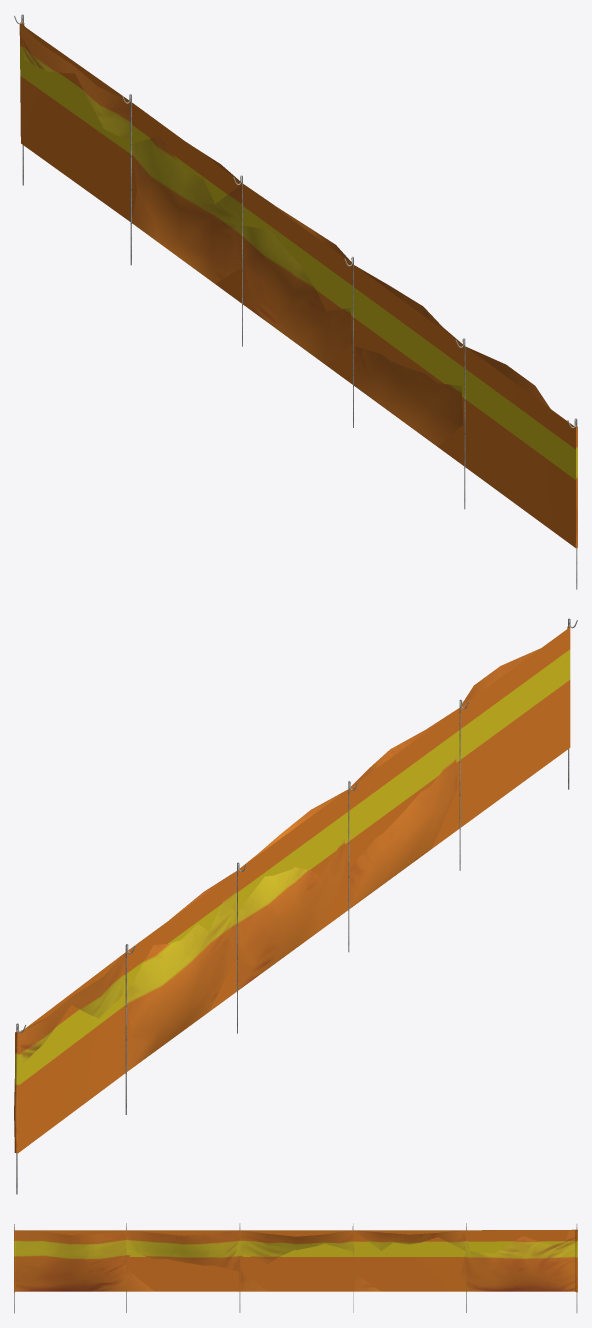
The model's file is ut_race_mesh_barricade_.DAE.
3 views of the same model, one above another, from view 1: azimuth 30°, elevation 25°; view 2: azimuth 150°, elevation 25°; view 3: azimuth 270°, elevation 25° (orthographic). The views are drawn at different scales.
Parts seen in each view (by area): view 1: mesh_barricade_c80, mesh_barricade_c1000, mesh_barricade_c100; view 2: mesh_barricade_c80, mesh_barricade_c1000, mesh_barricade_c100; view 3: mesh_barricade_c1000, mesh_barricade_c80.
Part boxes in pixels (x1=…): mesh_barricade_c80: x1=19, y1=24, x2=575, y2=547; mesh_barricade_c1000: x1=14, y1=14, x2=577, y2=589; mesh_barricade_c100: x1=20, y1=24, x2=575, y2=542; mesh_barricade_c80: x1=18, y1=627, x2=570, y2=1152; mesh_barricade_c1000: x1=14, y1=618, x2=577, y2=1194; mesh_barricade_c100: x1=17, y1=1018, x2=46, y2=1141; mesh_barricade_c1000: x1=14, y1=1223, x2=577, y2=1313; mesh_barricade_c80: x1=18, y1=1229, x2=576, y2=1291.
Size of the model in its own units: 0.2516 by 9.97 by 1.7.
